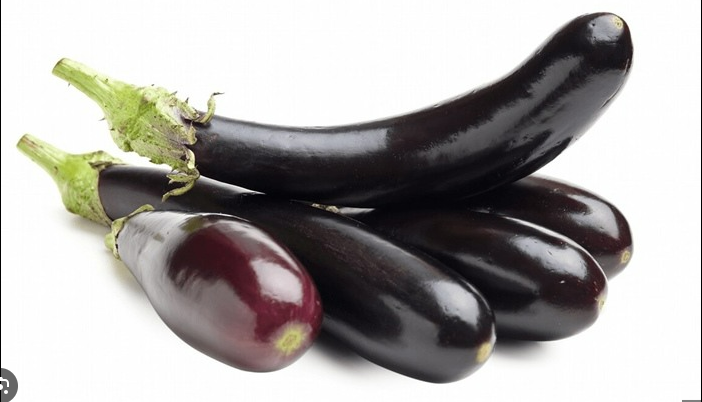catim: (58, 18, 635, 204), (88, 199, 319, 375), (363, 211, 608, 330), (22, 137, 219, 215)
